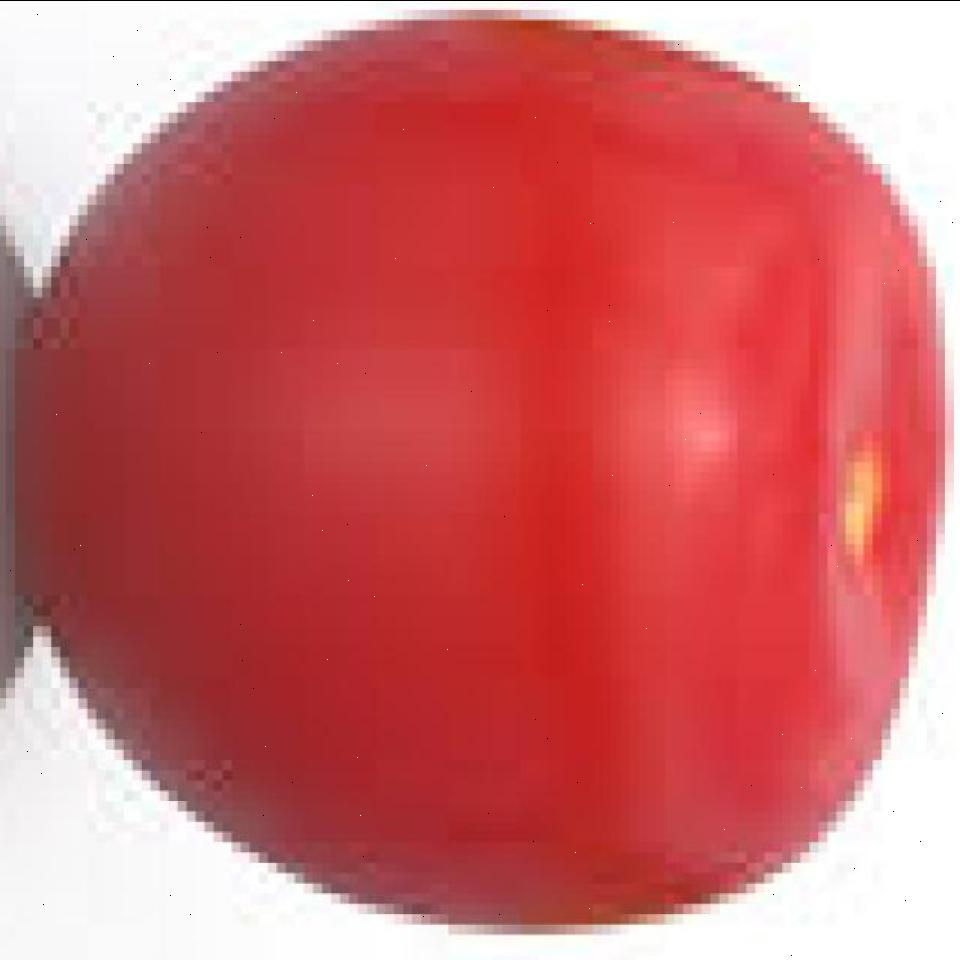Healthy: (0, 21, 960, 931)
